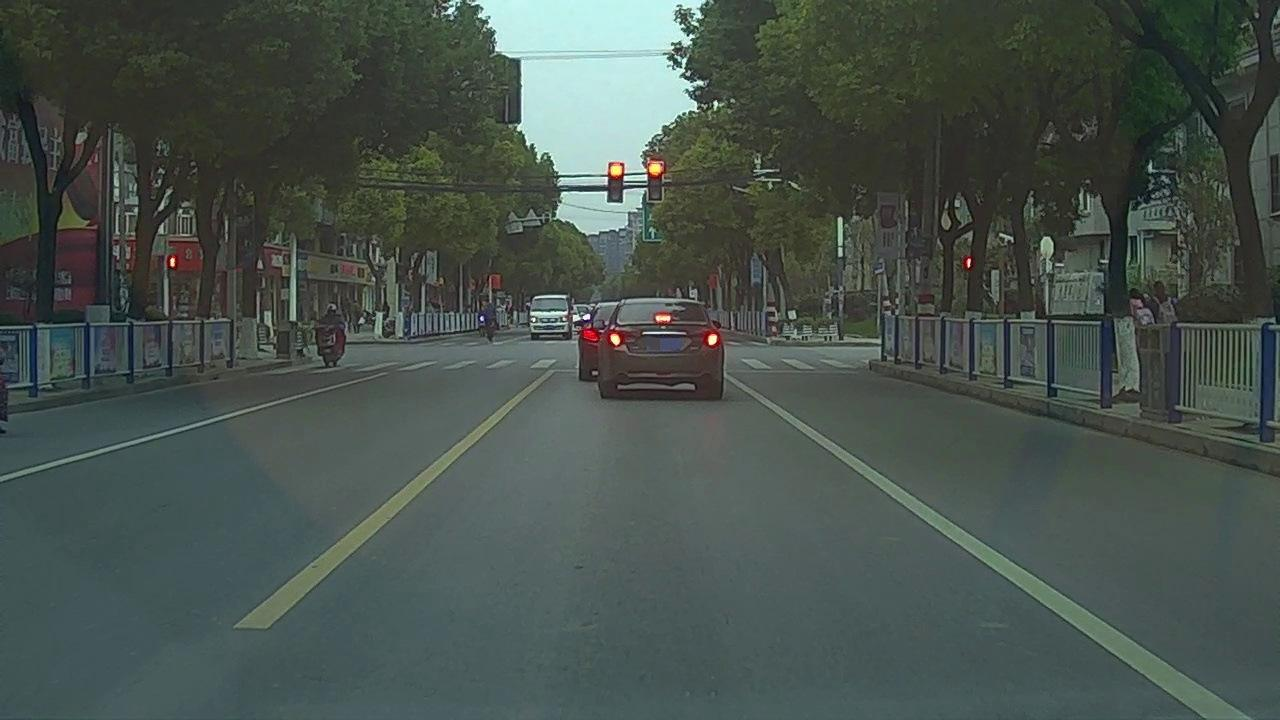traffic_light: (648, 161, 667, 201), (608, 162, 626, 200)
